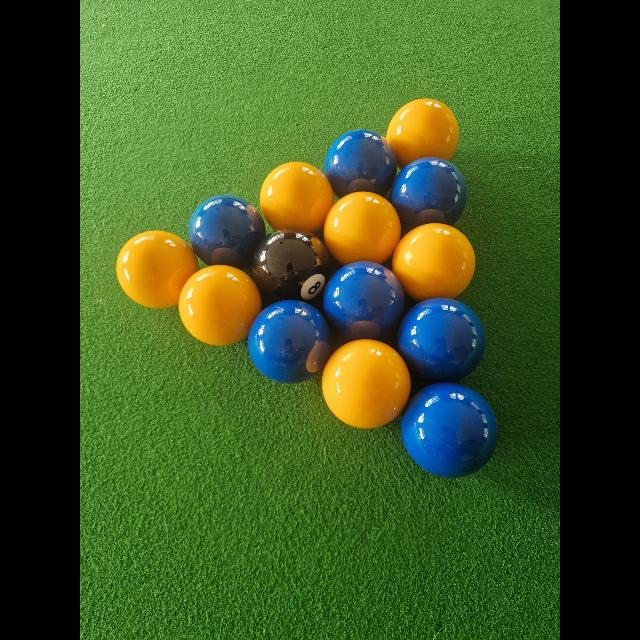Ball: (399, 380, 496, 478), (321, 339, 409, 428), (397, 297, 483, 381), (117, 230, 201, 310), (392, 223, 476, 303), (322, 262, 403, 342), (248, 301, 326, 384), (180, 264, 260, 344), (255, 231, 331, 305), (323, 192, 399, 264), (390, 157, 466, 227), (261, 161, 333, 233), (193, 197, 265, 269), (387, 98, 458, 170), (324, 130, 396, 200)
